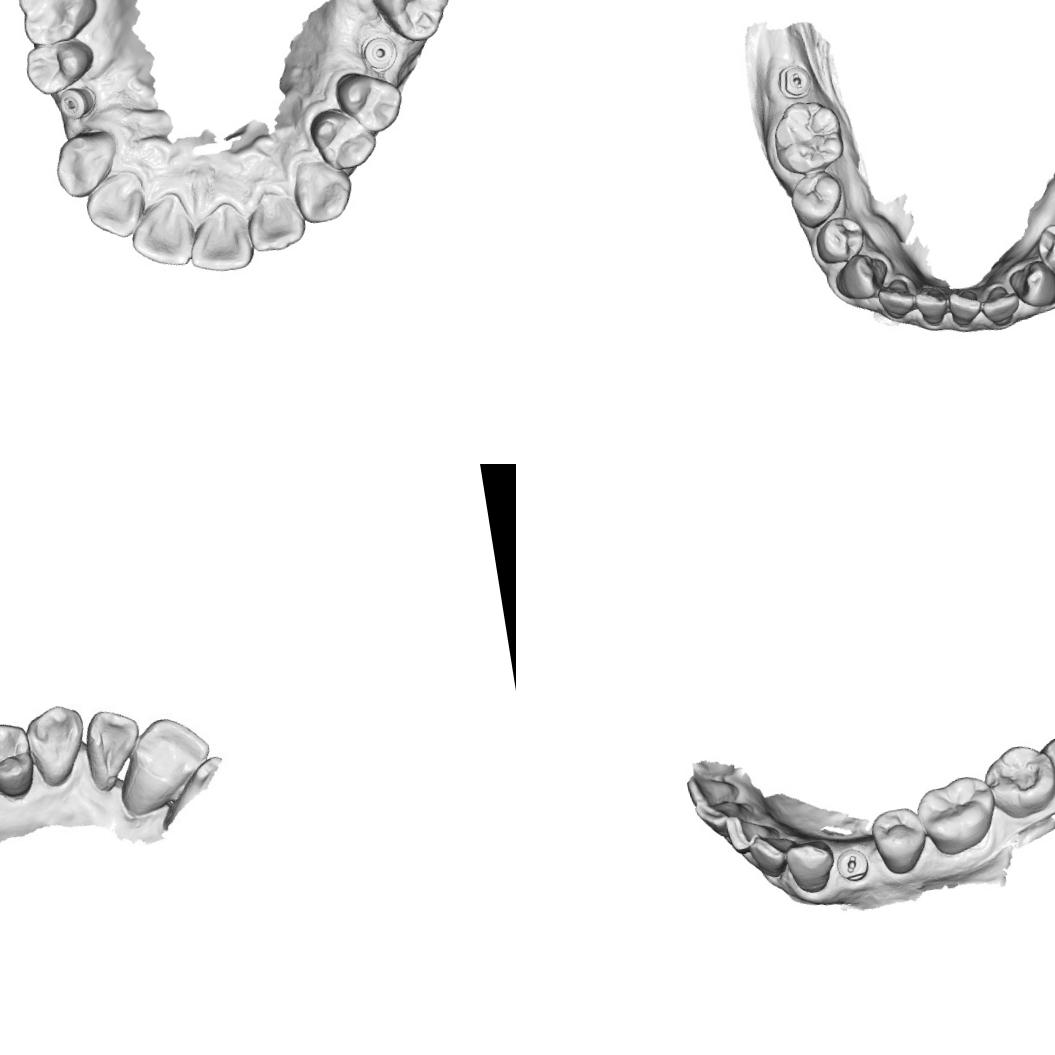canine: (25, 700, 92, 791), (48, 126, 124, 202), (287, 151, 358, 227), (782, 836, 840, 896), (832, 248, 892, 303), (1005, 256, 1055, 311)
implant: (356, 30, 401, 76)
implant_minus: (763, 52, 829, 112), (55, 83, 99, 123), (834, 846, 872, 886)
incisor: (108, 708, 222, 823), (76, 703, 150, 797), (180, 196, 258, 278), (124, 190, 196, 274), (80, 167, 152, 244), (240, 184, 312, 256), (690, 792, 757, 839), (745, 827, 802, 882), (722, 808, 782, 858), (683, 766, 740, 810), (977, 282, 1023, 329), (875, 276, 916, 322), (912, 284, 950, 328), (946, 286, 985, 328)
molar: (912, 770, 1004, 860), (767, 95, 848, 178), (979, 739, 1055, 824), (364, 0, 458, 49), (11, 0, 103, 50)
premolar: (331, 65, 407, 139), (306, 101, 380, 175), (21, 36, 100, 98), (867, 804, 932, 878), (786, 167, 848, 232), (0, 720, 38, 807), (812, 213, 868, 266), (1034, 220, 1055, 280)
